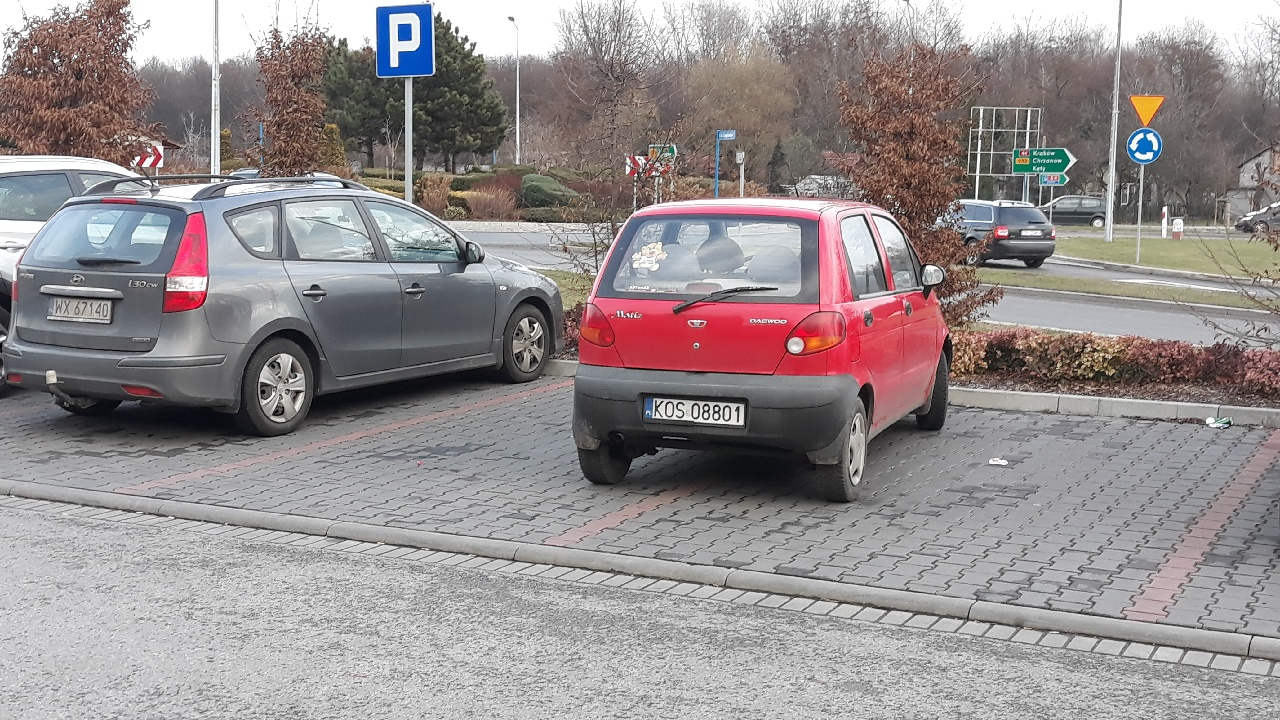A7: (1126, 93, 1174, 131)
C12: (1123, 126, 1167, 165)
D18: (372, 4, 437, 79)
